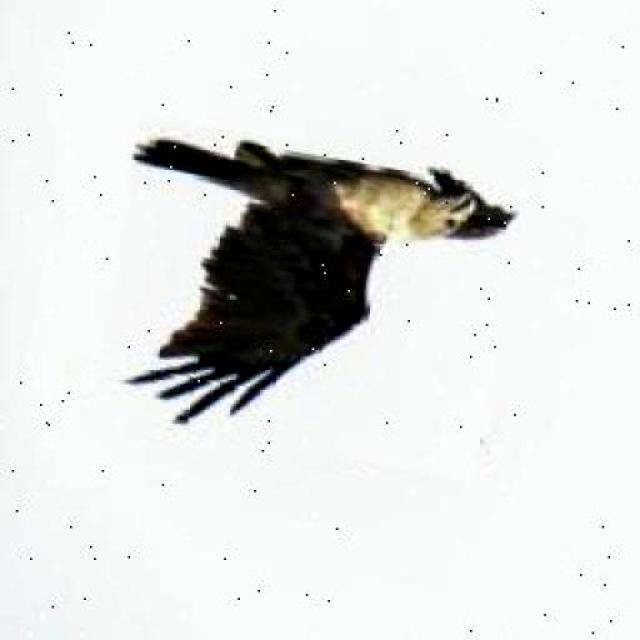airplane: (88, 112, 525, 481)
